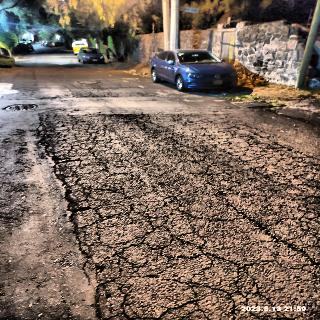alligator-crack: (29, 107, 320, 320)
